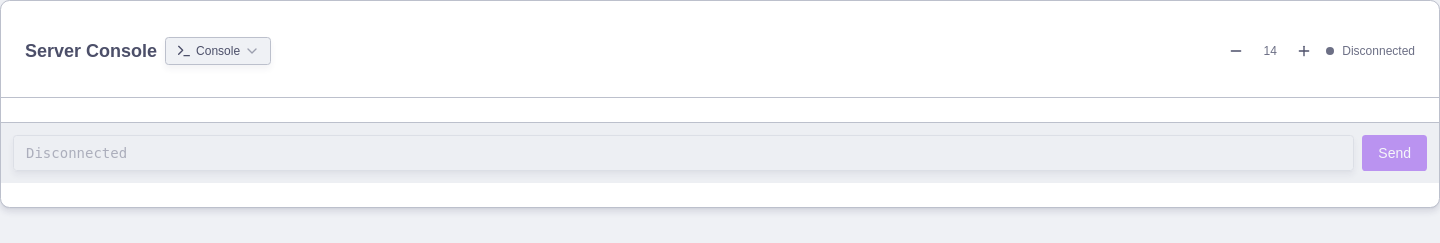
Scenario: ConsolePanel › source selector dropdown › clicking "Live Console" switches back to console mode
// Open dropdown
Click the button with test id "source-selector" at coordinates (218, 51), box x1=165 y1=37 x2=271 y2=65
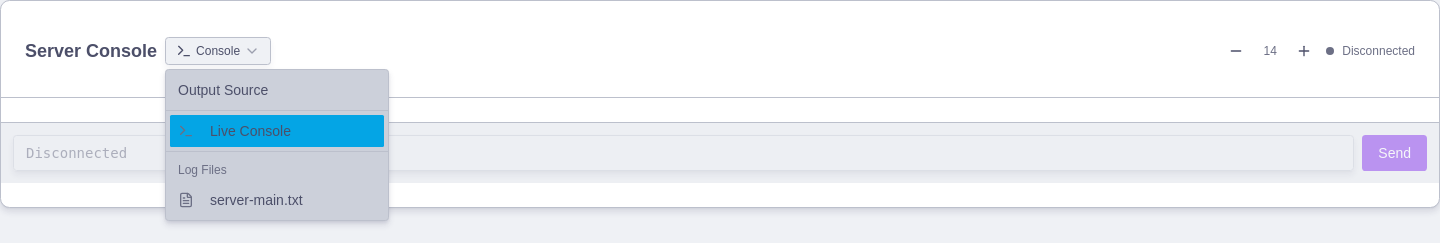
// Click on log file
Click the menu item "server-main.txt" at coordinates (240, 200), box x1=178 y1=192 x2=303 y2=208
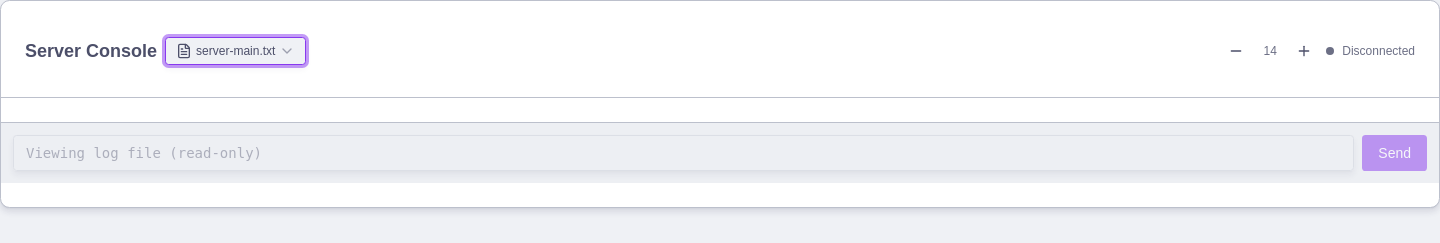
// Open dropdown again
Click the button with test id "source-selector" at coordinates (236, 51), box x1=165 y1=37 x2=306 y2=65
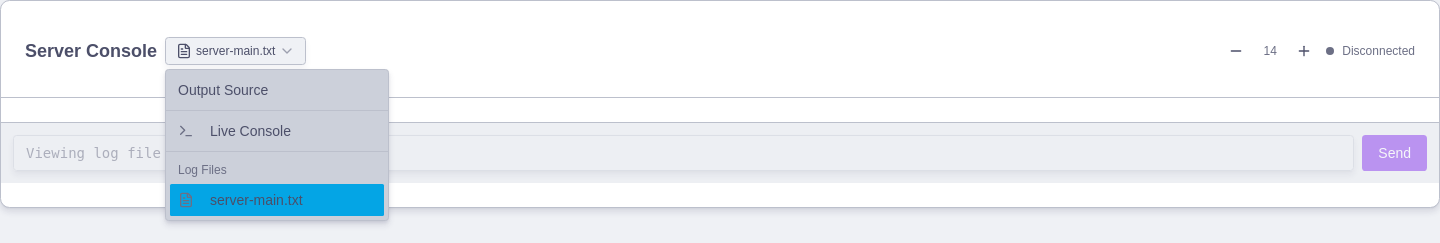
// Click on Live Console
Click the menu item "Live Console" at coordinates (234, 131), box x1=178 y1=123 x2=291 y2=139
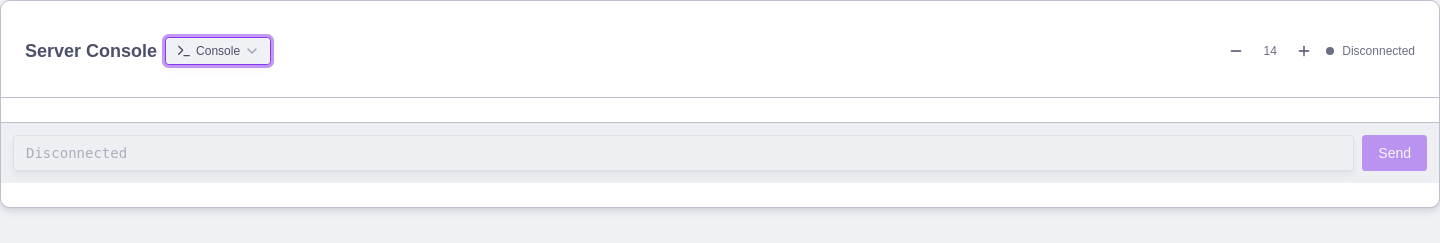
Expected: the button with test id "source-selector" reads "Console", x1=165 y1=37 x2=271 y2=65
